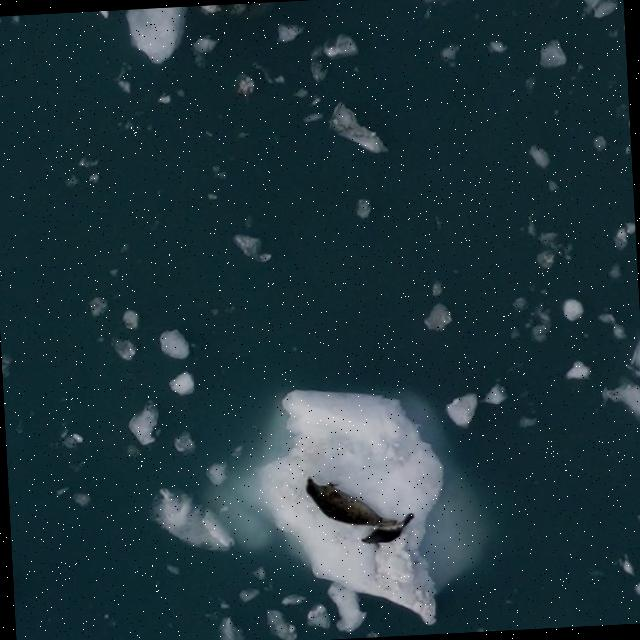seal: (296, 469, 400, 549), (359, 512, 419, 553)
